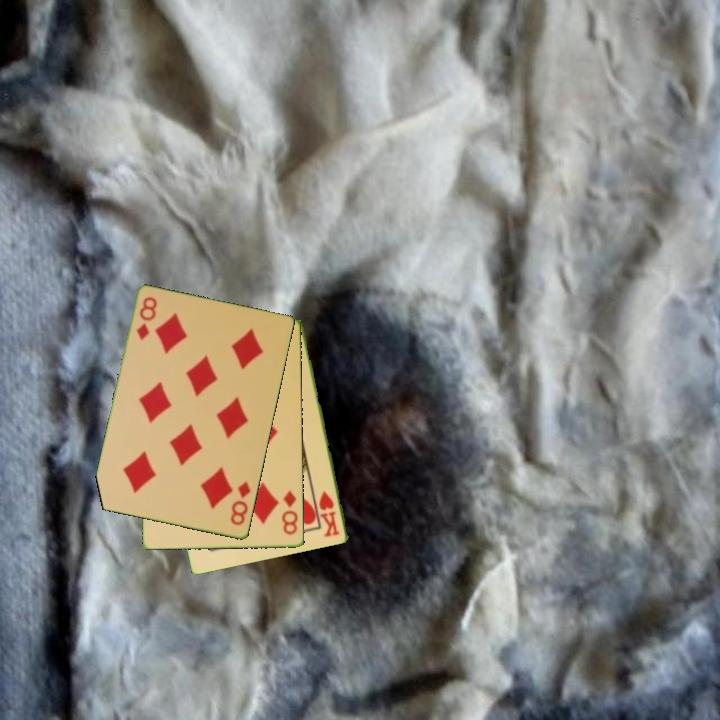8d: (227, 478, 254, 529), (133, 294, 160, 343), (278, 487, 301, 538)
Kh: (316, 487, 343, 540)
